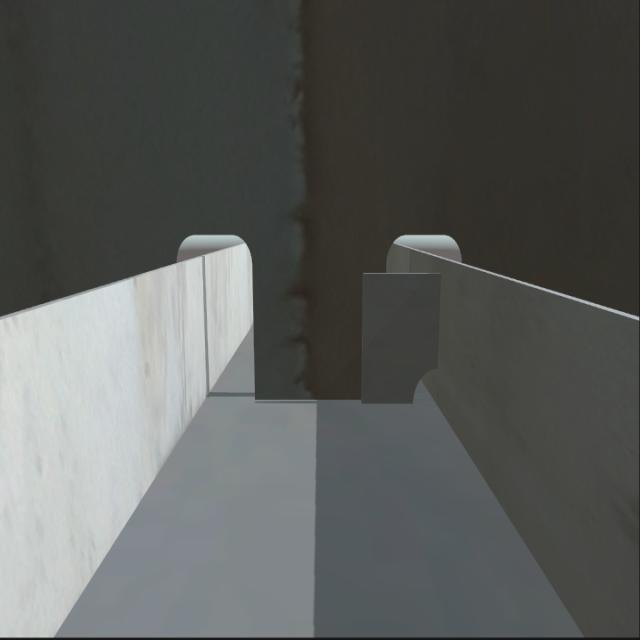fillet_hole: (412, 366, 440, 410)
fillet_yong_jeop_jang: (246, 384, 413, 412)
longi_yong_jeop_jang: (430, 270, 446, 372)
plate_CP01: (361, 274, 441, 407)
